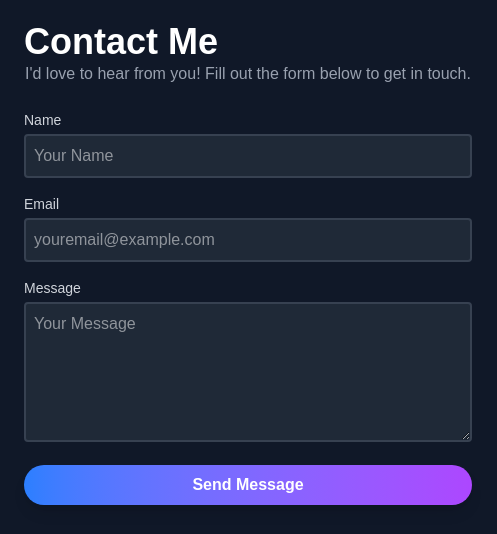
displays network error message on fetch exception
Type "Carol" into the field labelled "Name" at [248, 156], box [24,134,472,178]
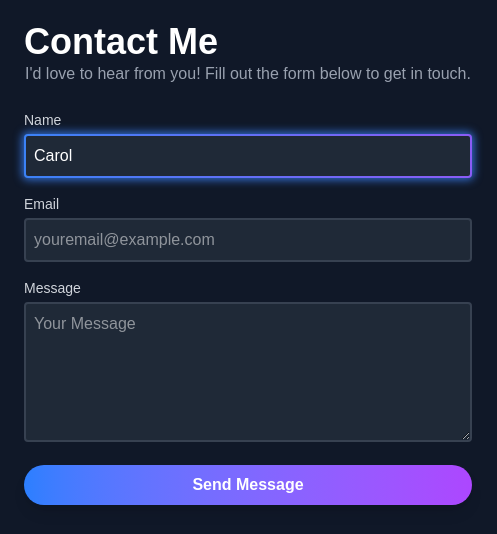
Type "carol@example.com" into the field labelled "Email" at [248, 240], box [24,218,472,262]
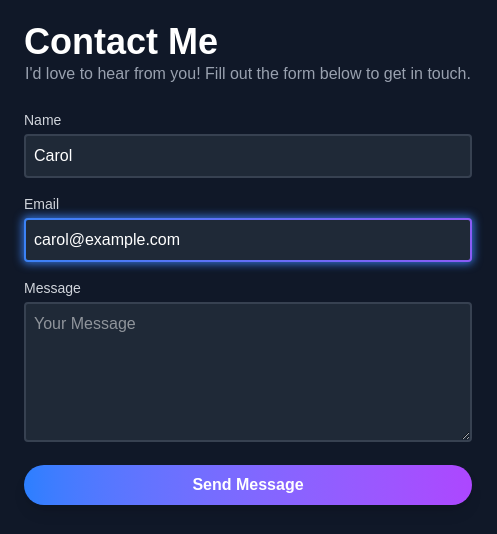
Type "Hey there" into the text box labelled "Message" at [248, 372], box [24,302,472,442]
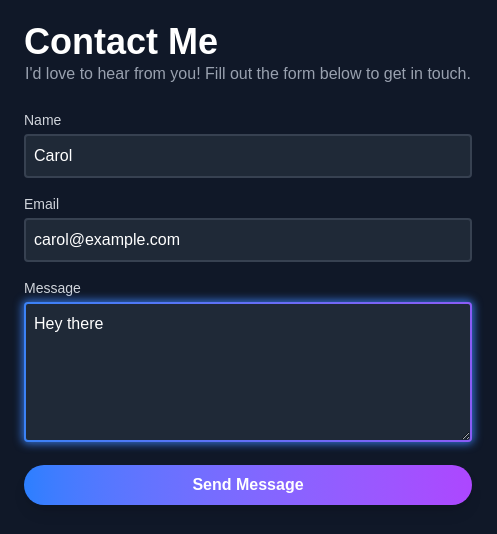
Click the button "Send Message" at [248, 484], box [24,464,472,504]
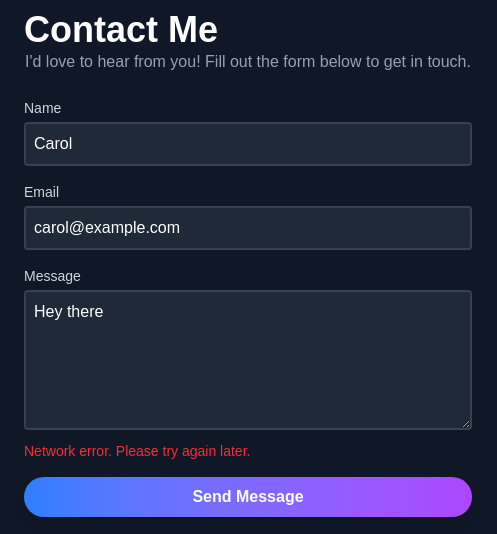
expect the text "Network error. Please try again later." is shown: met, box [24,442,250,458]
